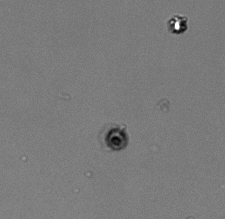Dead Cell: (105, 127, 129, 153)
Living Cell: (168, 14, 187, 35)
